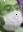with_mask: (1, 2, 23, 32)
